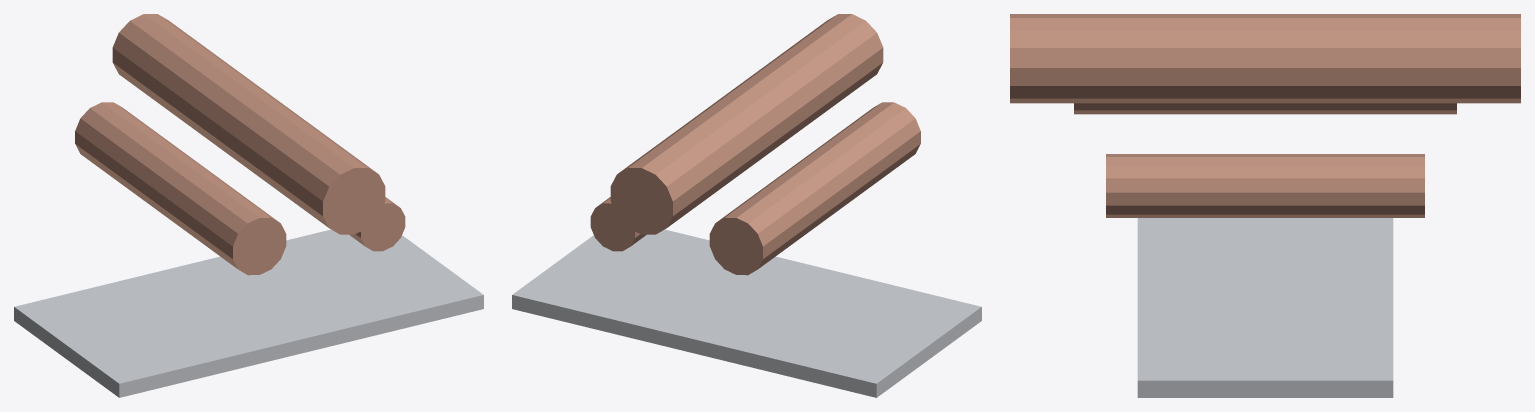
Rendered from smokestack_cluster.glb.
3 views of the same model, side by side, from view 1: azimuth 30°, elevation 25°; view 2: azimuth 150°, elevation 25°; view 3: azimuth 270°, elevation 25° (orthographic). The views are drawn at different scales.
Parts seen in each view (by area): view 1: base, stack2, stack1, stack3; view 2: base, stack2, stack1, stack3; view 3: base, stack2, stack3, stack1.
Boxes of the visible parts, <box> form: base: <box>14,229,483,397</box>; stack2: <box>112,14,385,234</box>; stack1: <box>75,102,286,275</box>; stack3: <box>349,197,405,251</box>; base: <box>512,229,981,397</box>; stack2: <box>610,14,883,234</box>; stack1: <box>709,102,920,275</box>; stack3: <box>590,197,646,251</box>; base: <box>1137,218,1393,397</box>; stack2: <box>1010,14,1520,103</box>; stack3: <box>1106,154,1424,217</box>; stack1: <box>1074,103,1456,114</box>.
Bounding box in the file's own units: 16 × 9.4 × 16.
